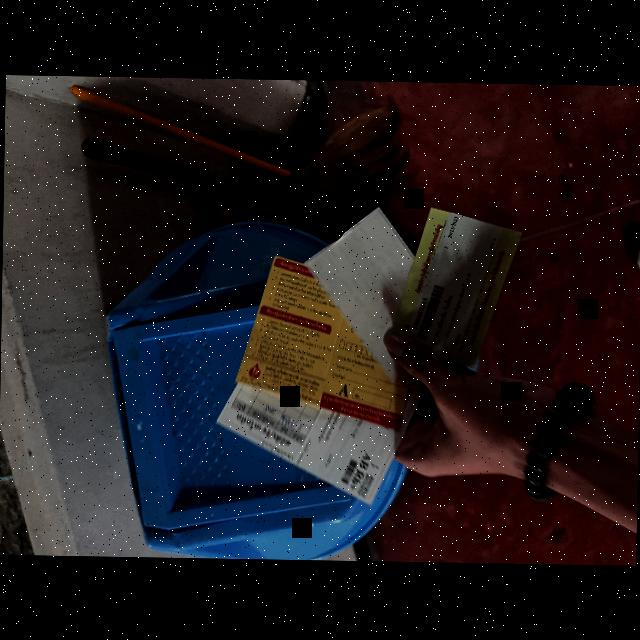scrap_paper: (207, 342, 436, 506), (228, 254, 421, 426), (304, 207, 441, 389), (392, 200, 512, 387)
